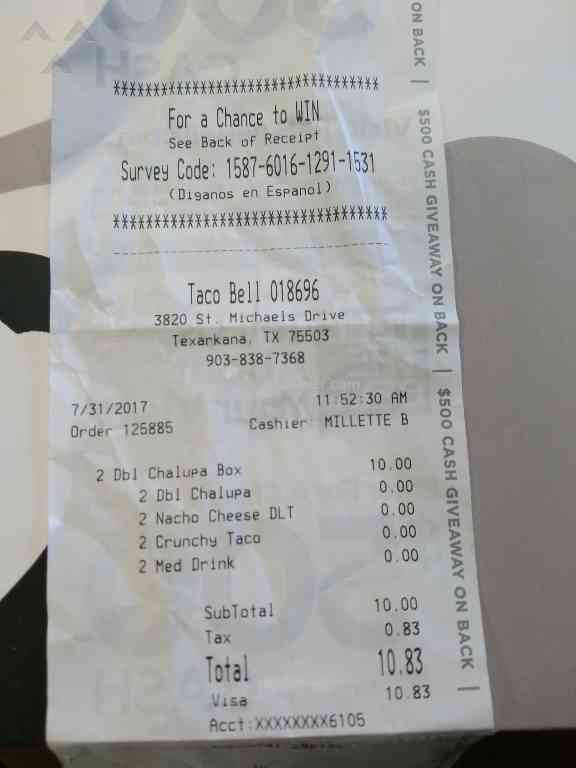Taco Bell: (177, 272, 266, 310)
